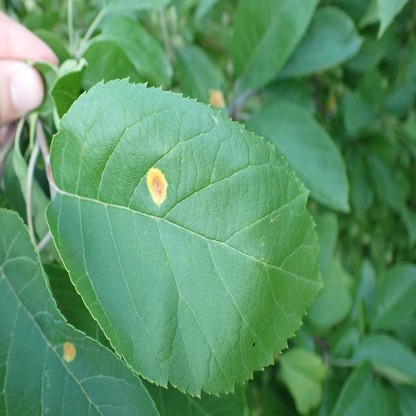rust: (147, 167, 167, 207), (63, 339, 76, 362), (209, 88, 225, 106)
